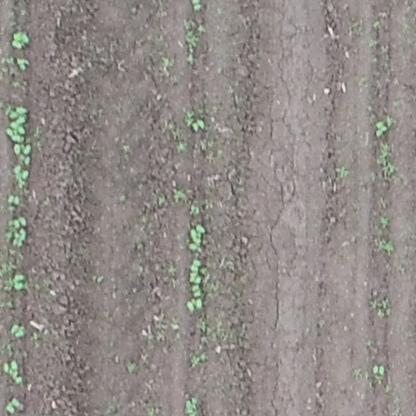vc: (7, 103, 27, 142), (8, 214, 28, 247), (187, 222, 207, 253), (184, 256, 205, 285), (3, 359, 24, 386), (10, 165, 31, 188), (11, 30, 31, 51), (185, 295, 206, 314), (373, 118, 390, 139), (5, 395, 23, 414), (10, 272, 27, 291), (8, 323, 26, 339), (7, 192, 23, 208), (372, 362, 387, 377), (16, 57, 32, 71), (11, 146, 33, 155), (192, 117, 205, 132), (193, 2, 202, 10)
